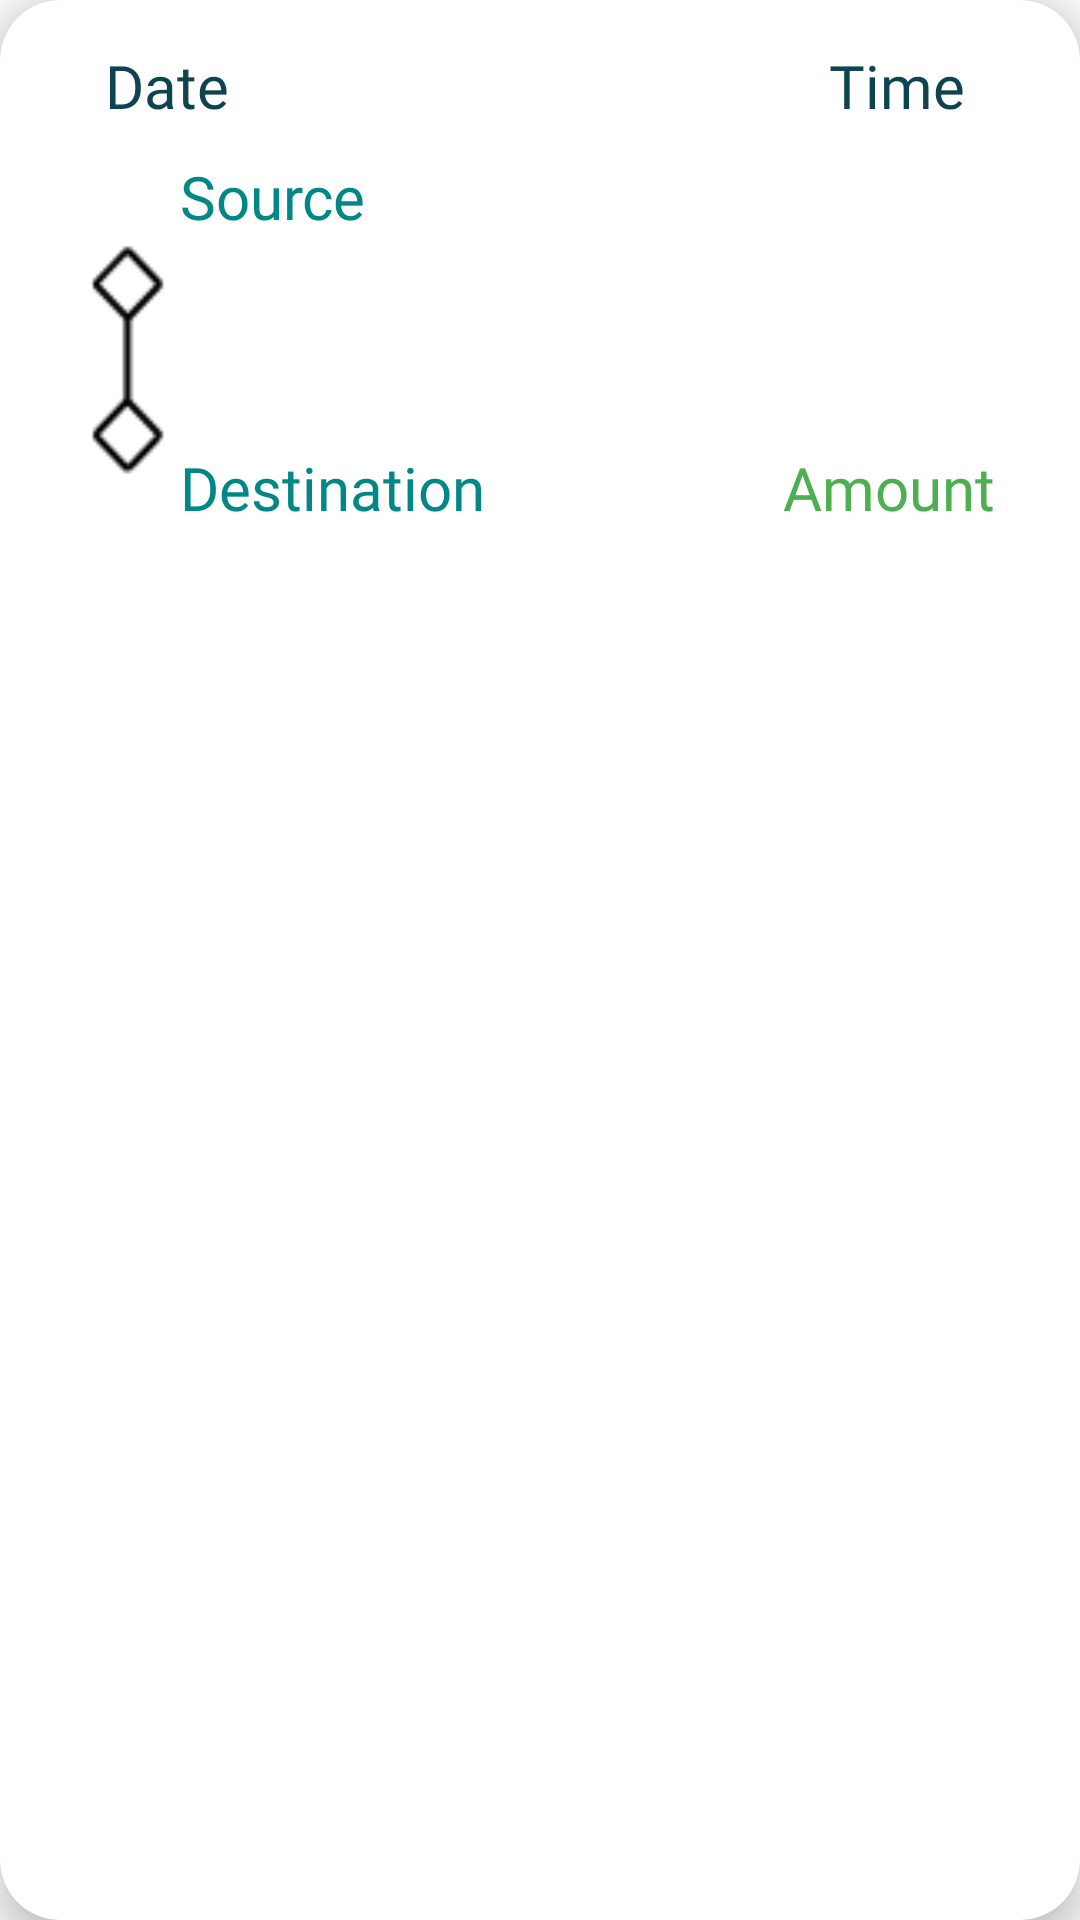

Named icons in this screenshot (1080×1920) and their centers, (x=x, y=y):
linewithdots: (x=185, y=379)
